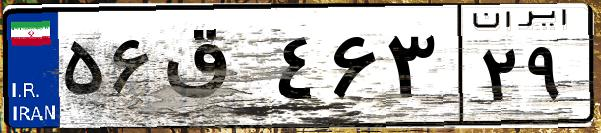2: (475, 38, 525, 113)
3: (385, 28, 445, 110)
4: (270, 28, 330, 110)
5: (57, 26, 110, 100)
6: (330, 28, 385, 110), (110, 28, 158, 98)
9: (525, 38, 570, 115)
ق: (158, 20, 270, 120)
